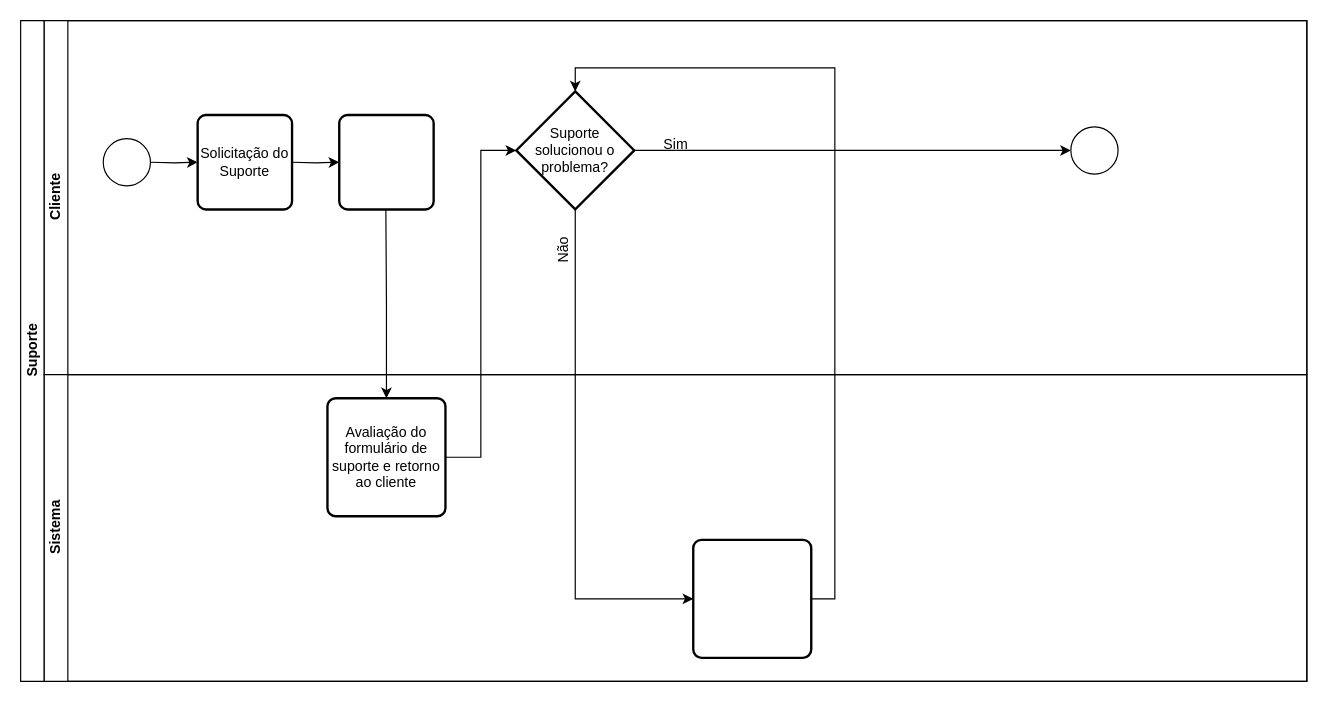
Some shapes in this 1328 by 702 pixel diagram are drawn without their labels. Each missing label, with the centre of its shape:
Continuação da comunicação com o cliente procurando solucionar o problema: the point at 751,598
Fim: the point at 1094,150
Preenchimento do formulário de suporte: the point at 385,161
